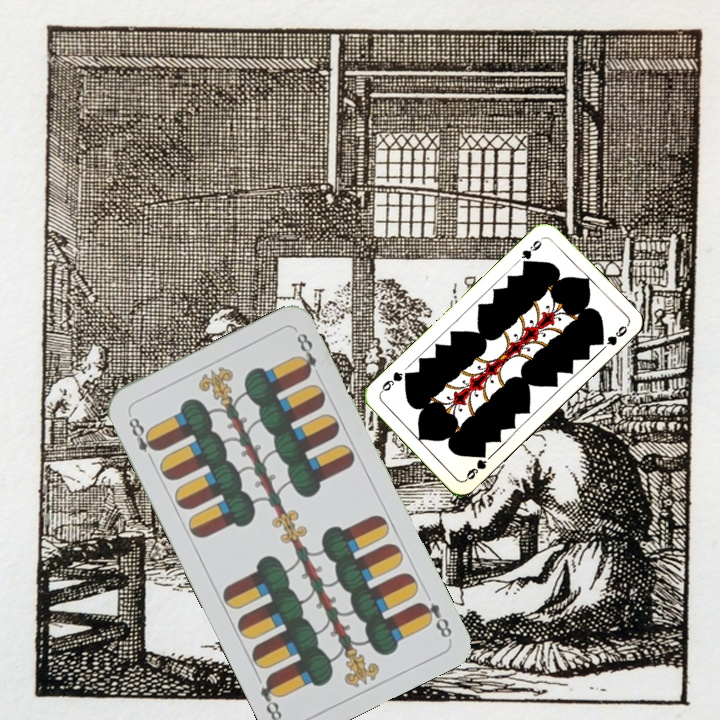E8: (124, 409, 161, 465), (415, 598, 455, 641)
G9: (461, 447, 490, 483), (517, 234, 546, 269)
